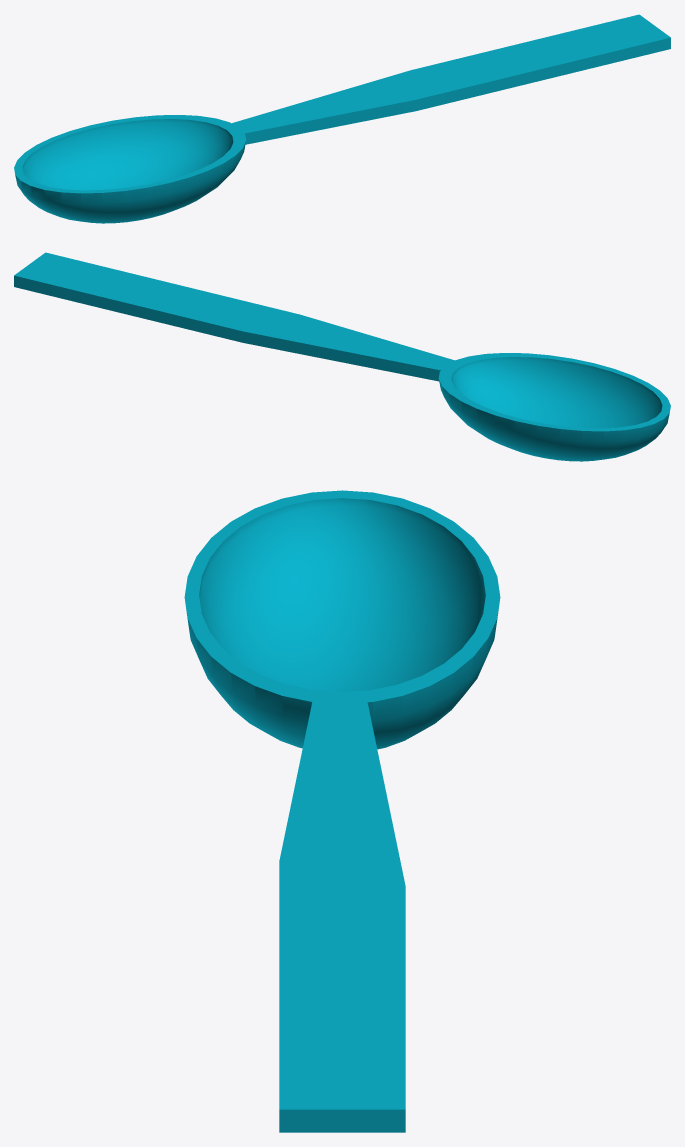
File: spoon_0.glb
3 views of the same model, one above another, from view 1: azimuth 30°, elevation 25°; view 2: azimuth 150°, elevation 25°; view 3: azimuth 270°, elevation 25° (orthographic). The views are drawn at different scales.
Parts seen in each view (by area): view 1: c35b1bd90e38489e878d922de5e212f0; view 2: c35b1bd90e38489e878d922de5e212f0; view 3: c35b1bd90e38489e878d922de5e212f0.
Part boxes in pixels (x1,y1,x2,y2): c35b1bd90e38489e878d922de5e212f0: (14, 14, 670, 223); c35b1bd90e38489e878d922de5e212f0: (14, 252, 670, 461); c35b1bd90e38489e878d922de5e212f0: (184, 490, 500, 1132).
Bounding box in the file's own units: 1 × 0.0862 × 0.2155.
